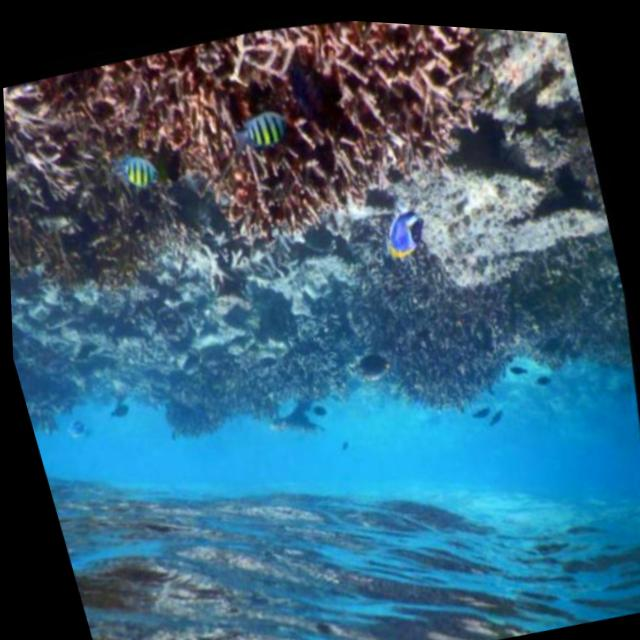Dead Coral: (96, 4, 498, 287), (384, 100, 630, 314), (360, 264, 530, 429)
